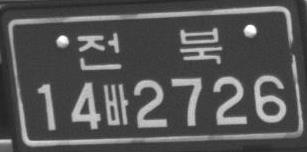1: (32, 83, 61, 130)
2: (212, 76, 248, 125), (133, 78, 167, 127)
4: (72, 82, 101, 129)
6: (253, 74, 287, 123)
7: (170, 77, 202, 127)
바: (102, 83, 130, 125)
전북_D: (76, 27, 222, 70)
